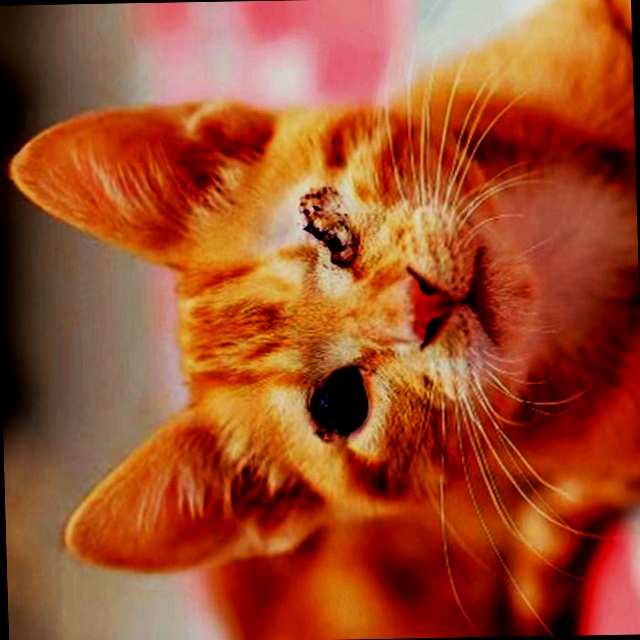eye_infection: (309, 355, 371, 437)
